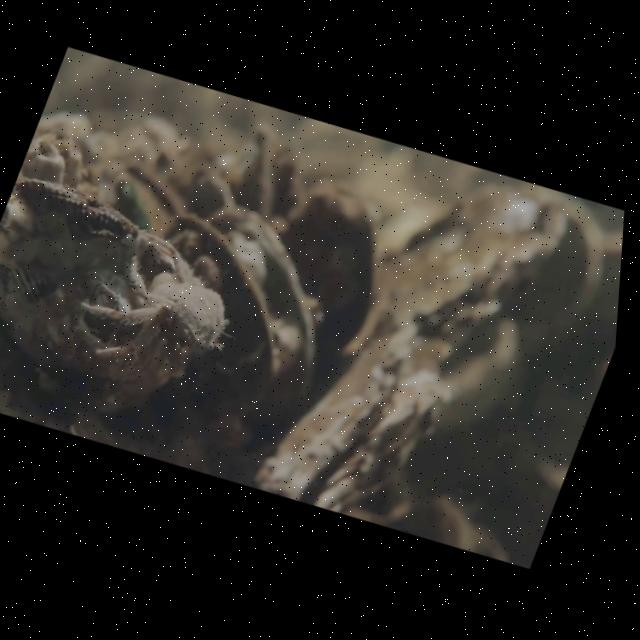Oyster-Open: (169, 208, 324, 407)
